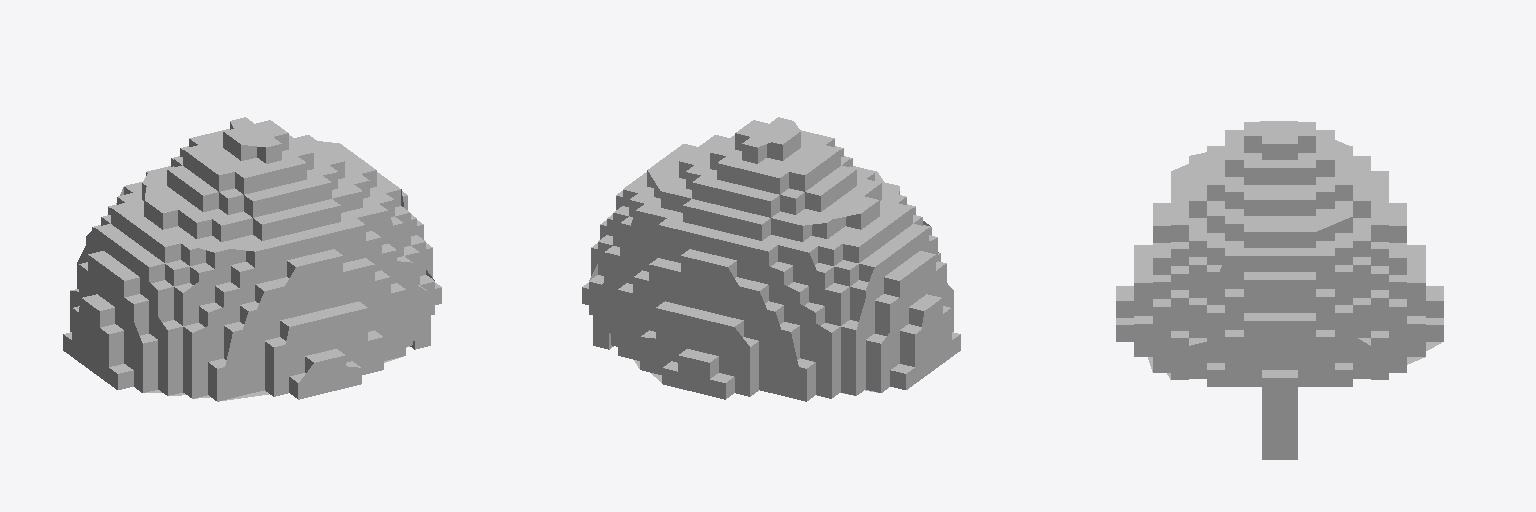
Rendered from Helm_Nasal_Pickup.obj.
The picture shows the model from 3 angles: view 1: azimuth 30°, elevation 25°; view 2: azimuth 150°, elevation 25°; view 3: azimuth 270°, elevation 25°; orthographic projection.
Visible parts, largest first — view 1: Helm_Nasal_Pickup; view 2: Helm_Nasal_Pickup; view 3: Helm_Nasal_Pickup.
Boxes of the visible parts, <box> form: Helm_Nasal_Pickup: <box>63,117,441,401</box>; Helm_Nasal_Pickup: <box>582,117,960,401</box>; Helm_Nasal_Pickup: <box>1116,121,1443,459</box>.
Size of the model in its own units: 0.21 by 0.15 by 0.18.